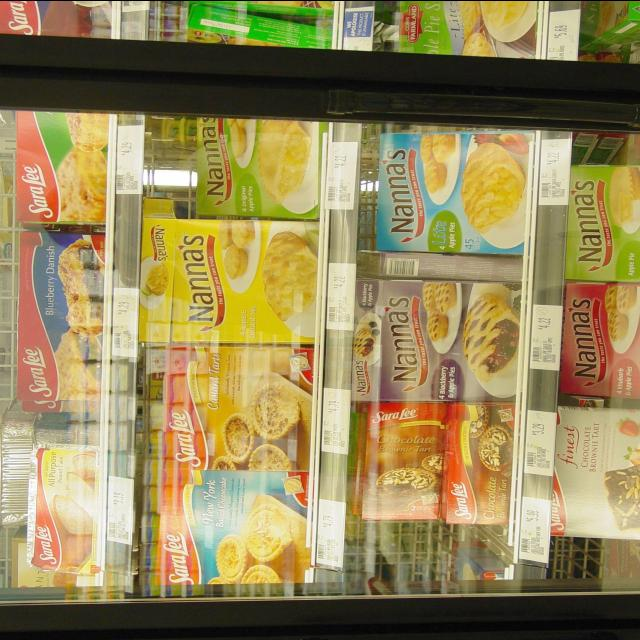empty_space: (545, 539, 640, 596)
